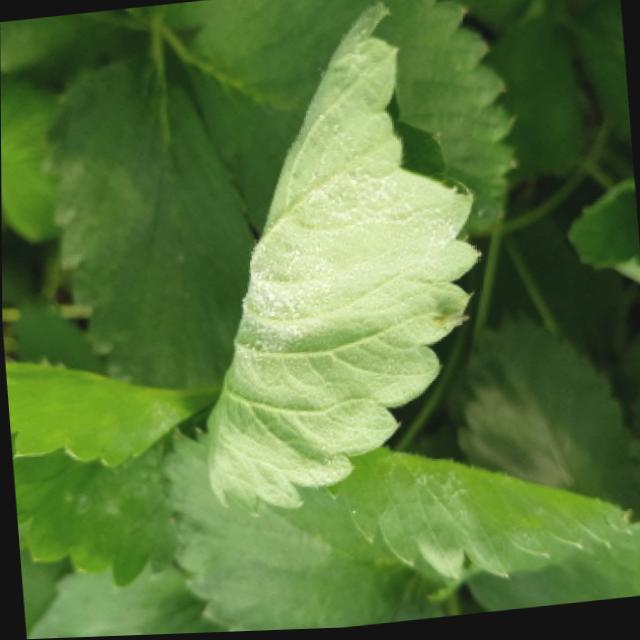Powdery Mildew Leaf: (203, 0, 486, 516), (319, 451, 640, 615)
